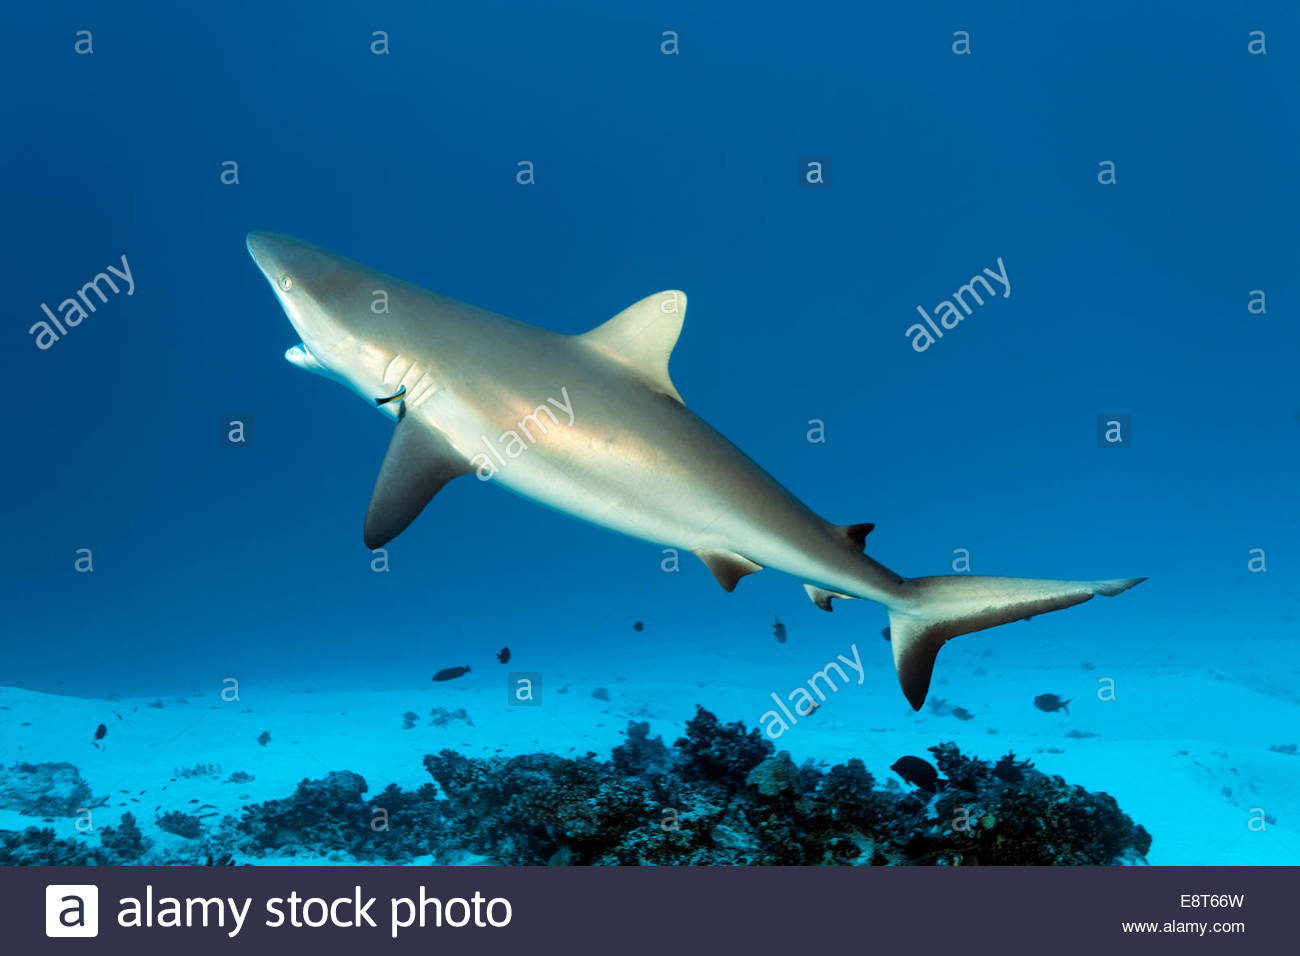Carcharhinus_amblyrhynchos: (233, 218, 1152, 718)
